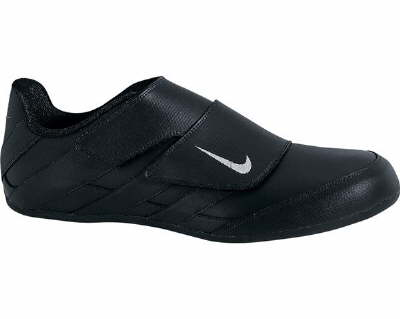nike: (193, 142, 253, 175)
